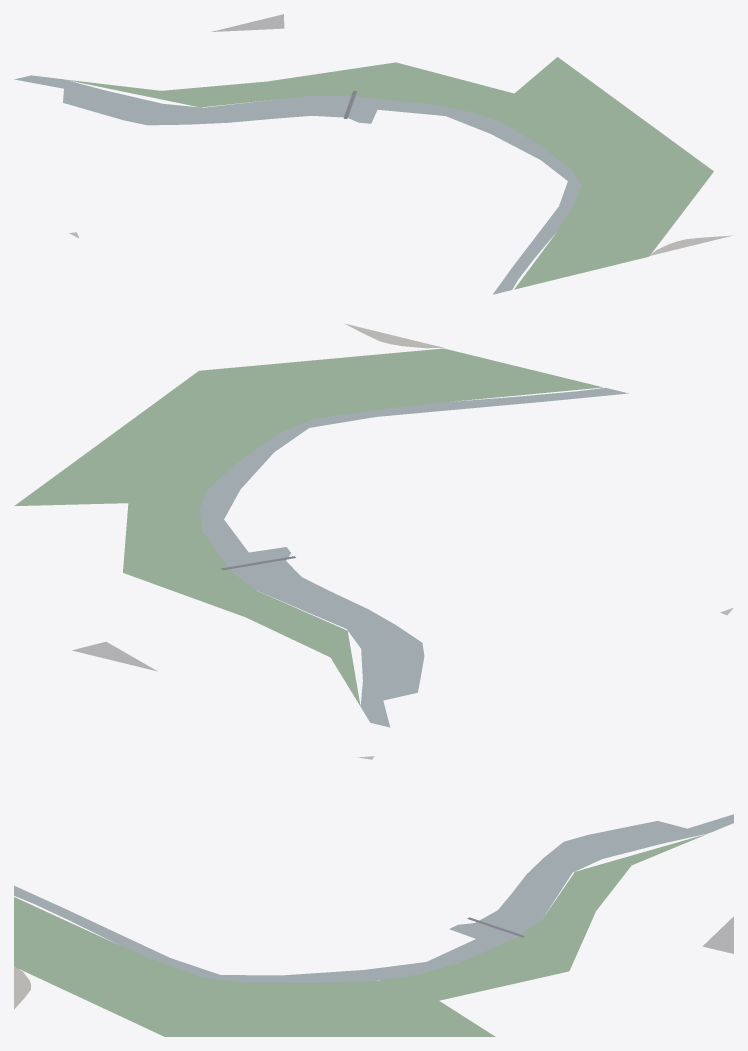
Rendered from 99_93_mid.glb.
3 renders of one model, top to bottom at view 1: azimuth 30°, elevation 25°; view 2: azimuth 150°, elevation 25°; view 3: azimuth 270°, elevation 25°, orthographic. The views are drawn at different scales.
Bounding box in the file's own units: 463 × 2.91 × 500.
